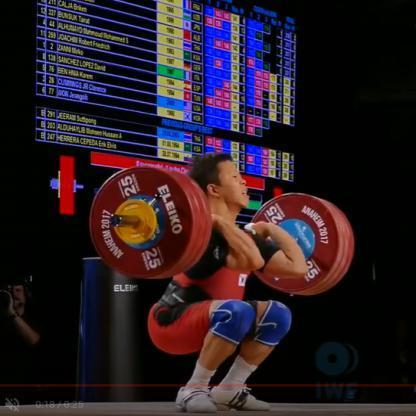barbell: (86, 164, 355, 297)
